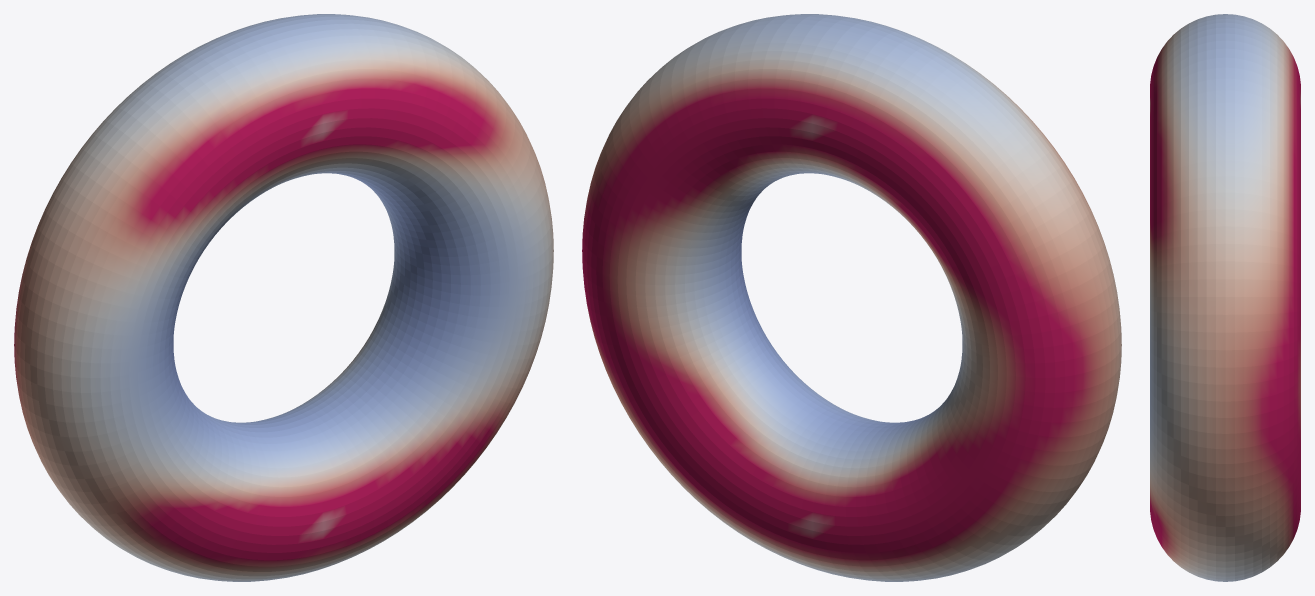
3 renders of one model, left to right at view 1: azimuth 30°, elevation 25°; view 2: azimuth 150°, elevation 25°; view 3: azimuth 270°, elevation 25°, orthographic. The views are drawn at different scales.
Parts seen in each view (by area): view 1: world; view 2: world; view 3: world.
Part boxes in pixels (x1=…): world: x1=14, y1=14, x2=553, y2=581; world: x1=582, y1=14, x2=1121, y2=581; world: x1=1150, y1=14, x2=1300, y2=581.
Size of the model in its own units: 24.53 by 24.53 by 6.52.
